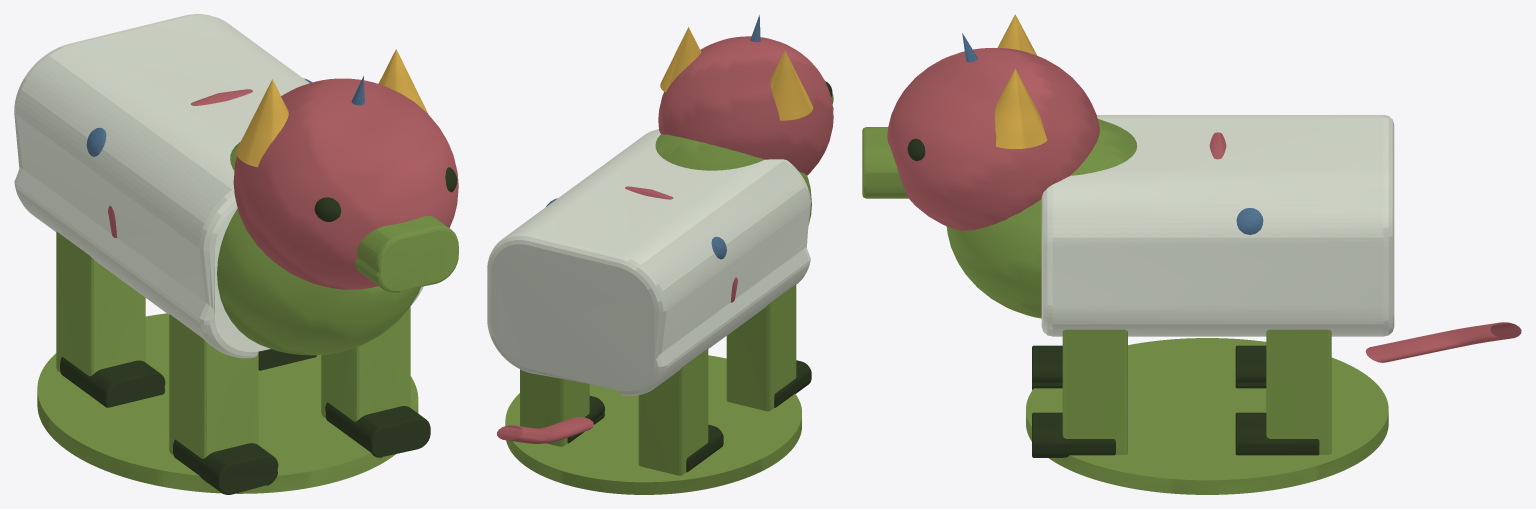
File: 1280_爬行动物图鉴_恒河鳄.glb
3 renders of one model, left to right at view 1: azimuth 30°, elevation 25°; view 2: azimuth 150°, elevation 25°; view 3: azimuth 270°, elevation 25°, orthographic. The views are drawn at different scales.
Visible parts, largest first — view 1: card_1280; view 2: card_1280; view 3: card_1280.
Boxes of the visible parts, x1=… form: card_1280: x1=14, y1=14, x2=458, y2=494; card_1280: x1=487, y1=15, x2=833, y2=494; card_1280: x1=862, y1=14, x2=1521, y2=494.
Bounding box in the file's own units: 0.7796 × 1 × 1.53.
